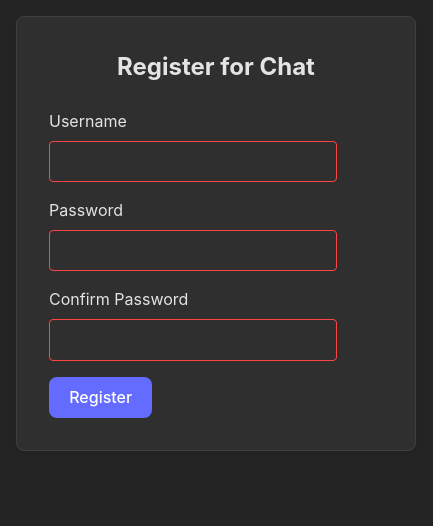
Test: Register component tests › displays an error when passwords do not match
Type "user" into the field labelled "Username" at x=193, y=162, box [49,141,337,182]
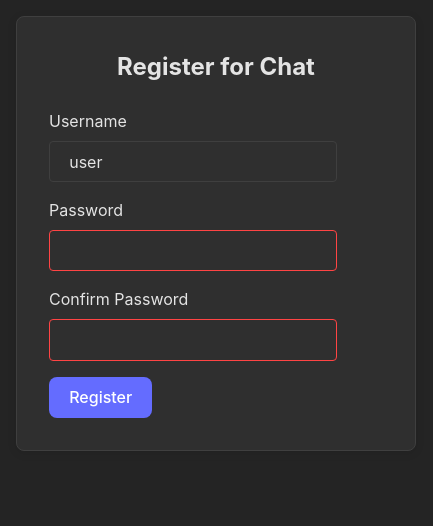
Type "password123" into the password field labelled "Password" at x=193, y=251, box [49,230,337,271]
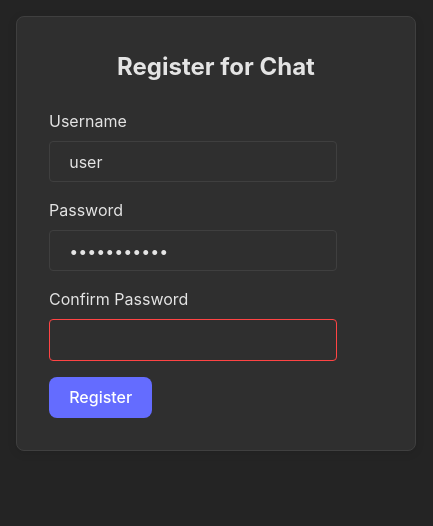
Type "password456" into the password field labelled "Confirm Password" at x=193, y=340, box [49,319,337,361]
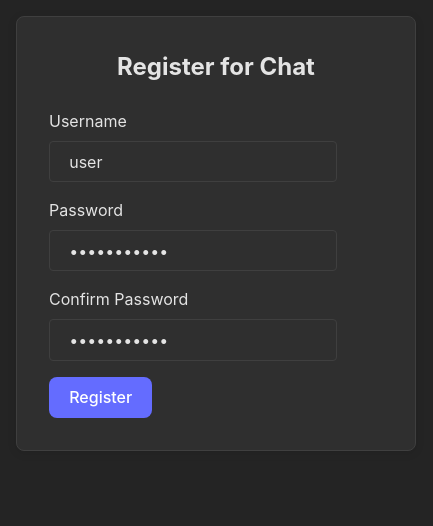
Click the button "Register" at x=101, y=397, box [49,377,152,418]
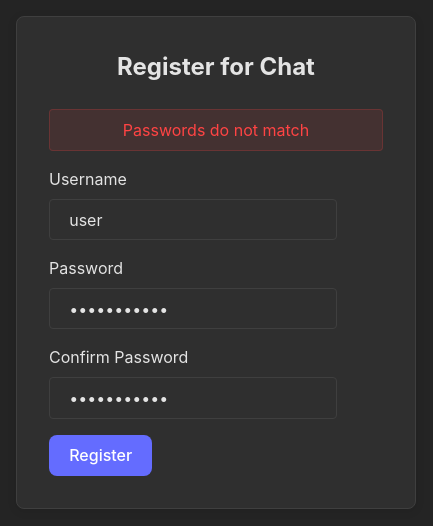
Expected: the text "Passwords do not match" is shown, [49,109,383,151]
